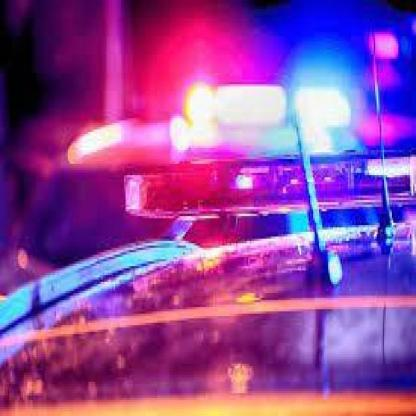priority: (137, 64, 374, 176)
